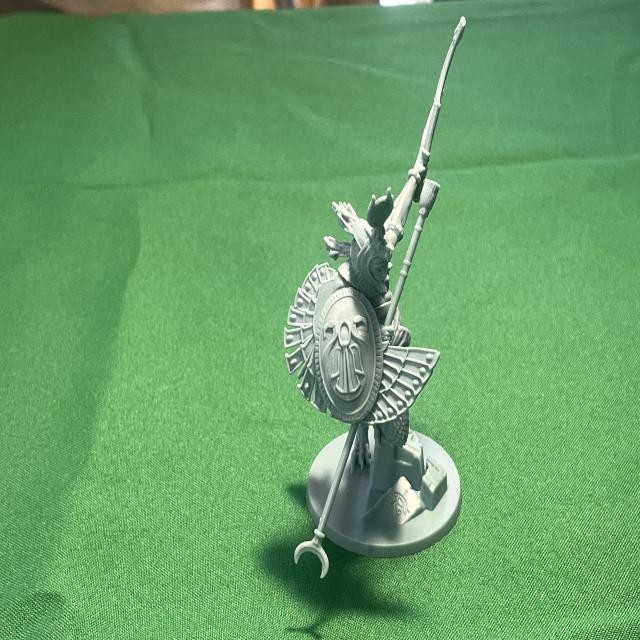isis: (261, 8, 496, 614)
